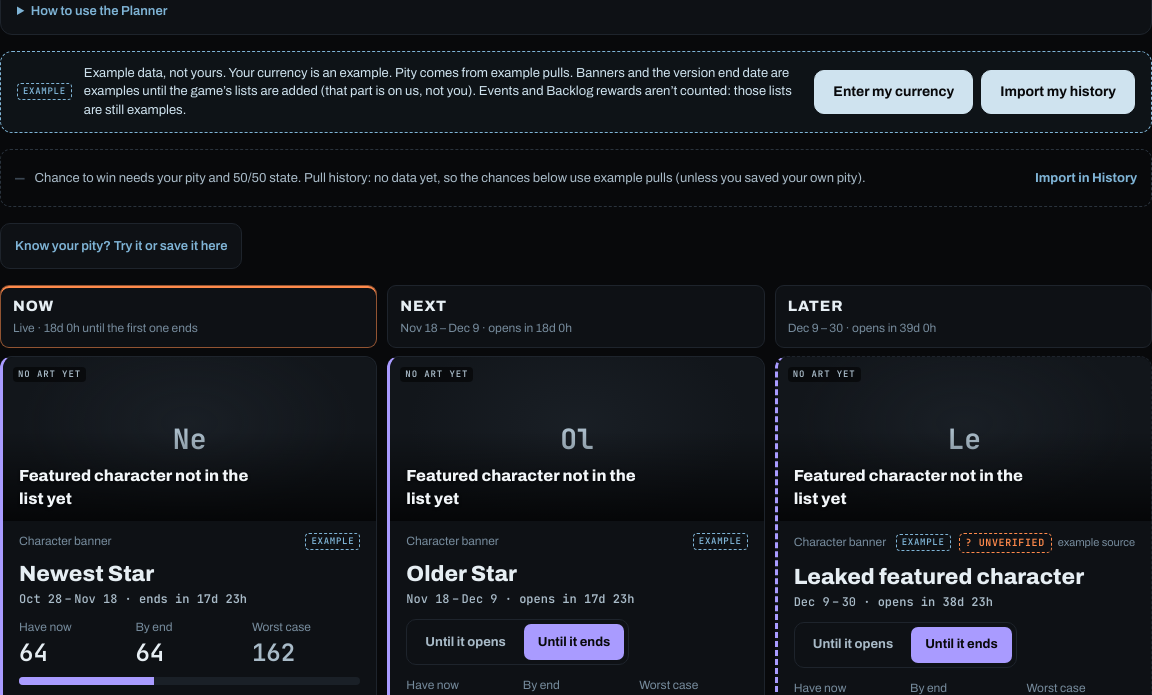
Test: Pulls screen › Planner: typing your own pity shows it as a what-if, never saved
Expected: the text "Example data, not yours" is shown, left=84, top=66, right=228, bottom=80
Replace the text in the number field with placeholder "e.g. 40" with "70": (121, 246) left=0, top=223, right=242, bottom=269
(page scrolled)
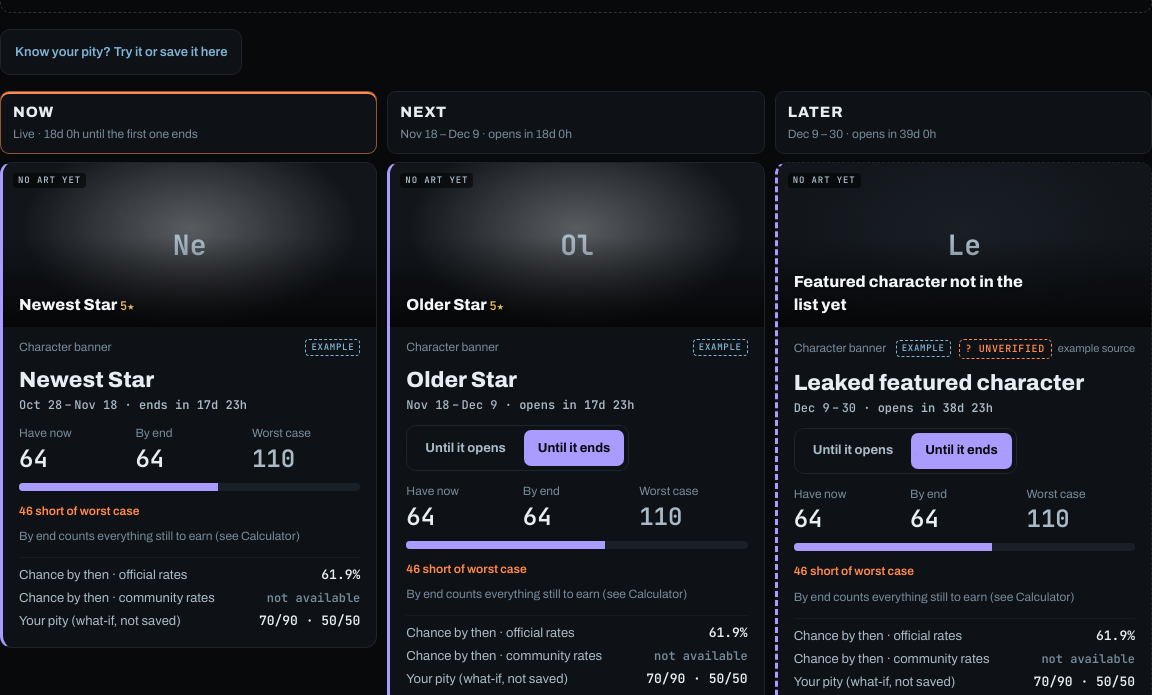
Expected: the text "Your pity (what-if, not saved)" below "Oct 28 – Nov 18" is shown, left=19, top=614, right=181, bottom=628
